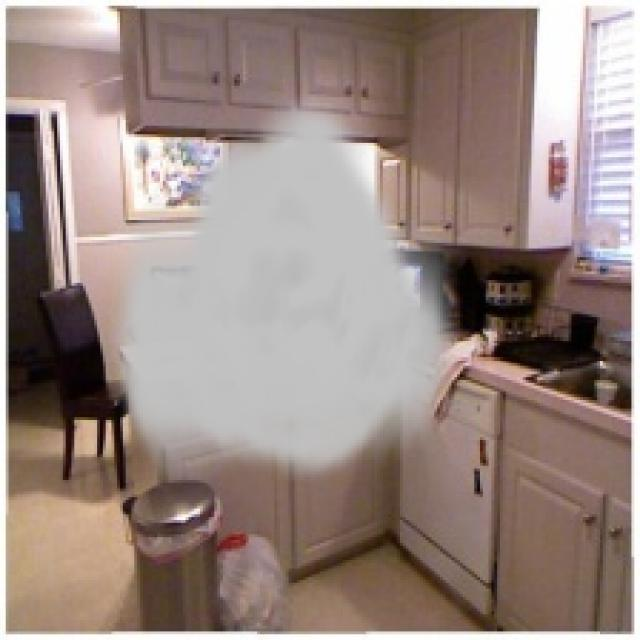Smoke: (108, 94, 466, 483)
